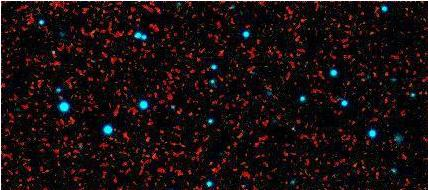star: (45, 82, 75, 112)
